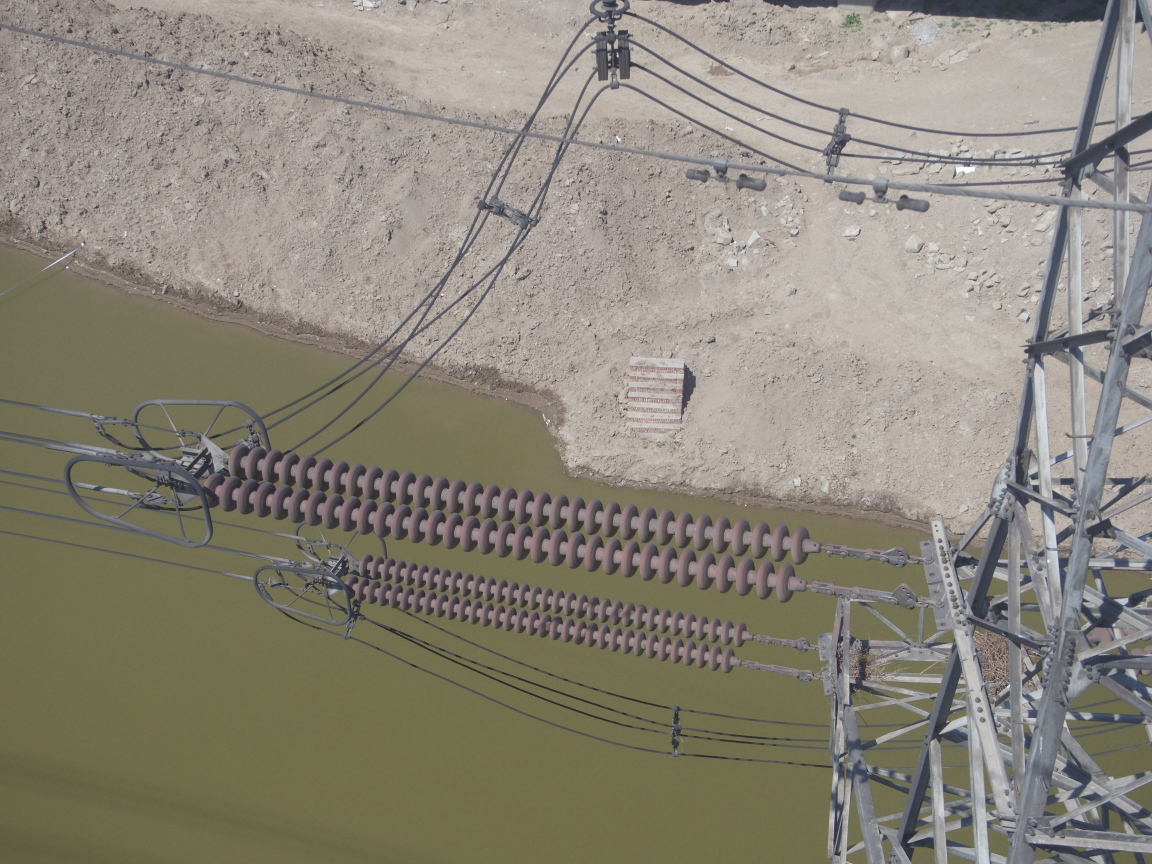insulator: (188, 438, 871, 609), (329, 550, 772, 676)
